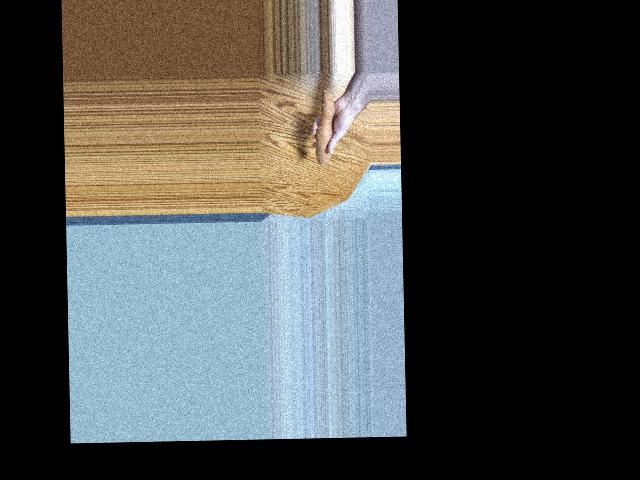sweet_potato: (314, 87, 339, 169)
